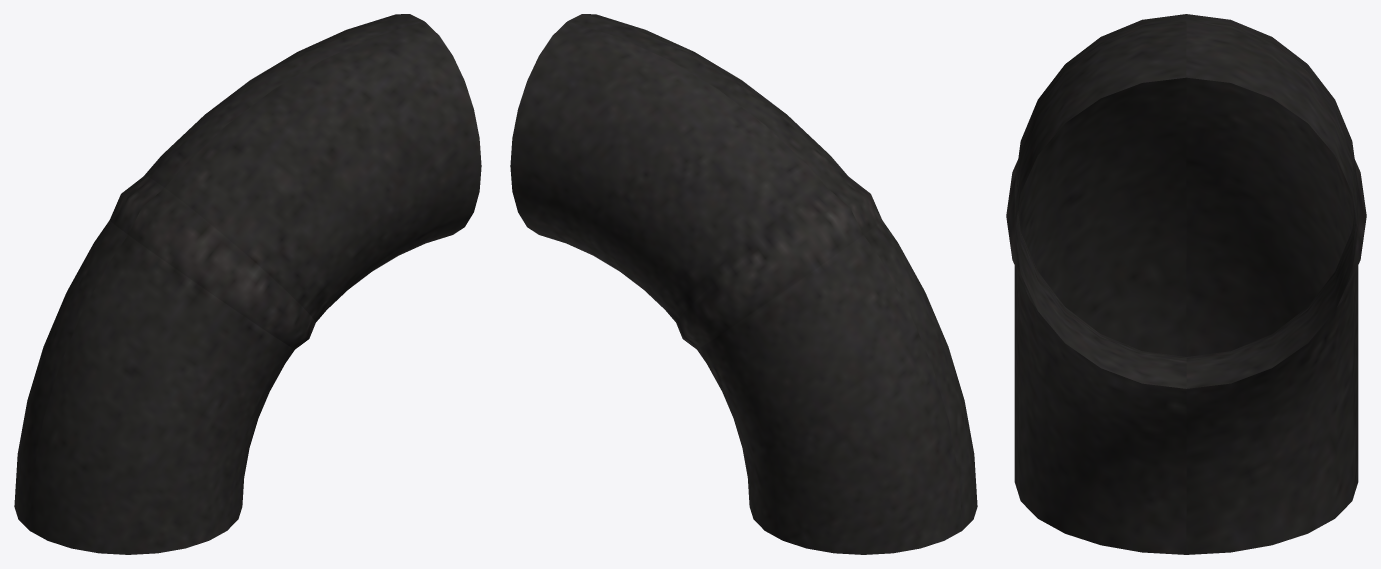
The model's file is pipe_1_corner.obj.
3 renders of one model, left to right at view 1: azimuth 30°, elevation 25°; view 2: azimuth 150°, elevation 25°; view 3: azimuth 270°, elevation 25°, orthographic. The views are drawn at different scales.
Parts seen in each view (by area): view 1: pipe_1_corner; view 2: pipe_1_corner; view 3: pipe_1_corner.
Boxes of the visible parts, <box> form: pipe_1_corner: <box>14,14,481,554</box>; pipe_1_corner: <box>510,14,977,554</box>; pipe_1_corner: <box>1006,14,1366,554</box>.
Size of the model in its own units: 0.4 by 0.4 by 0.21.
